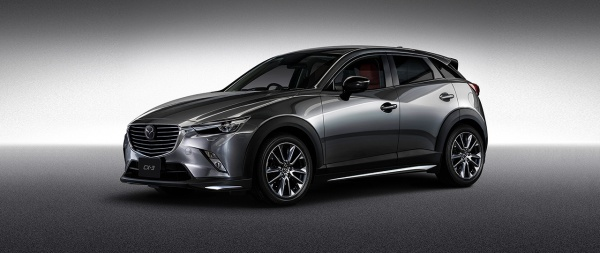pickup: (118, 43, 490, 206)
